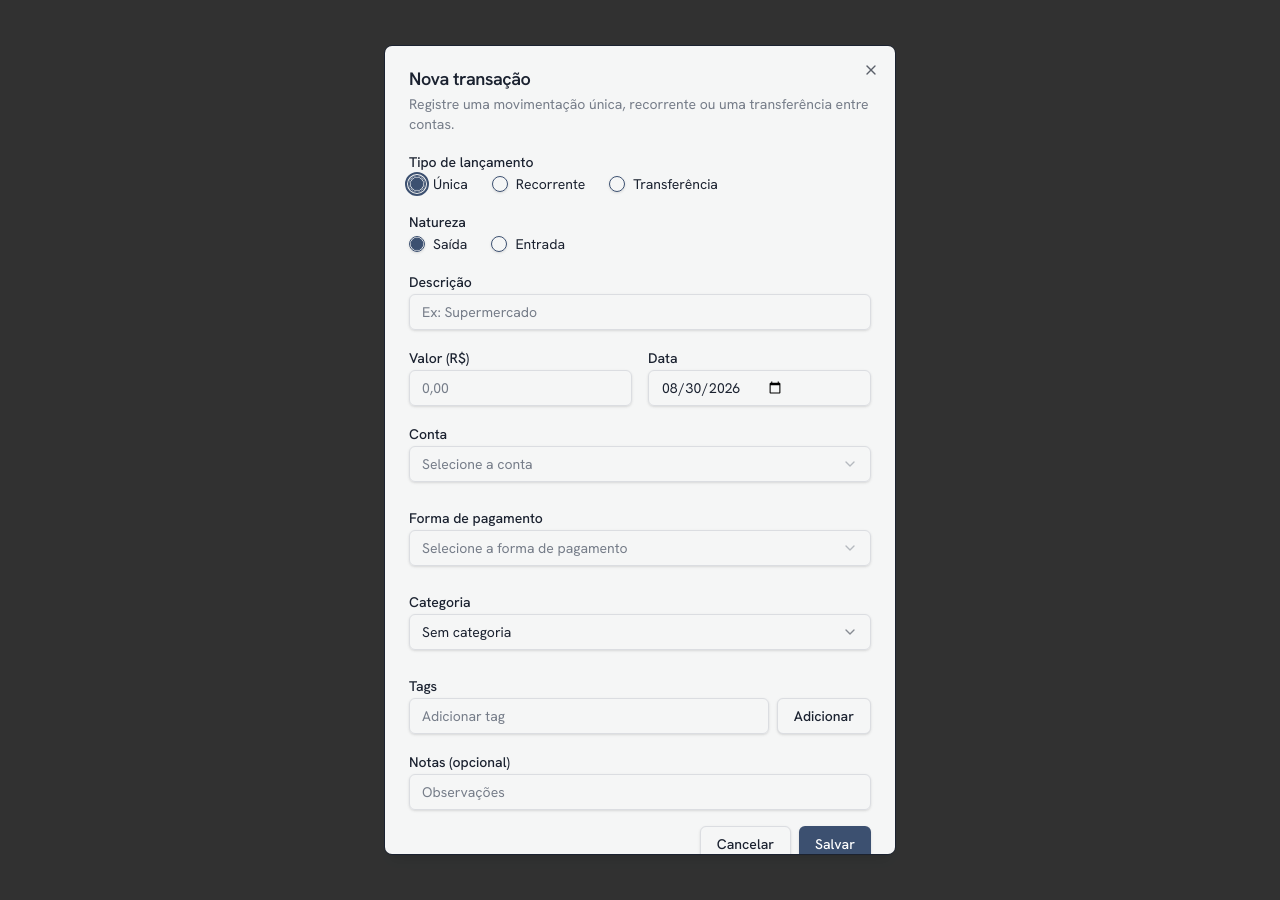
Scenario: TransactionForm › rejects a recurring end date before the transaction date
The width and height of the screenshot is (1280, 900).
Click the 2nd radio button named "Recorrente": [500, 184] box [492, 176, 508, 192]
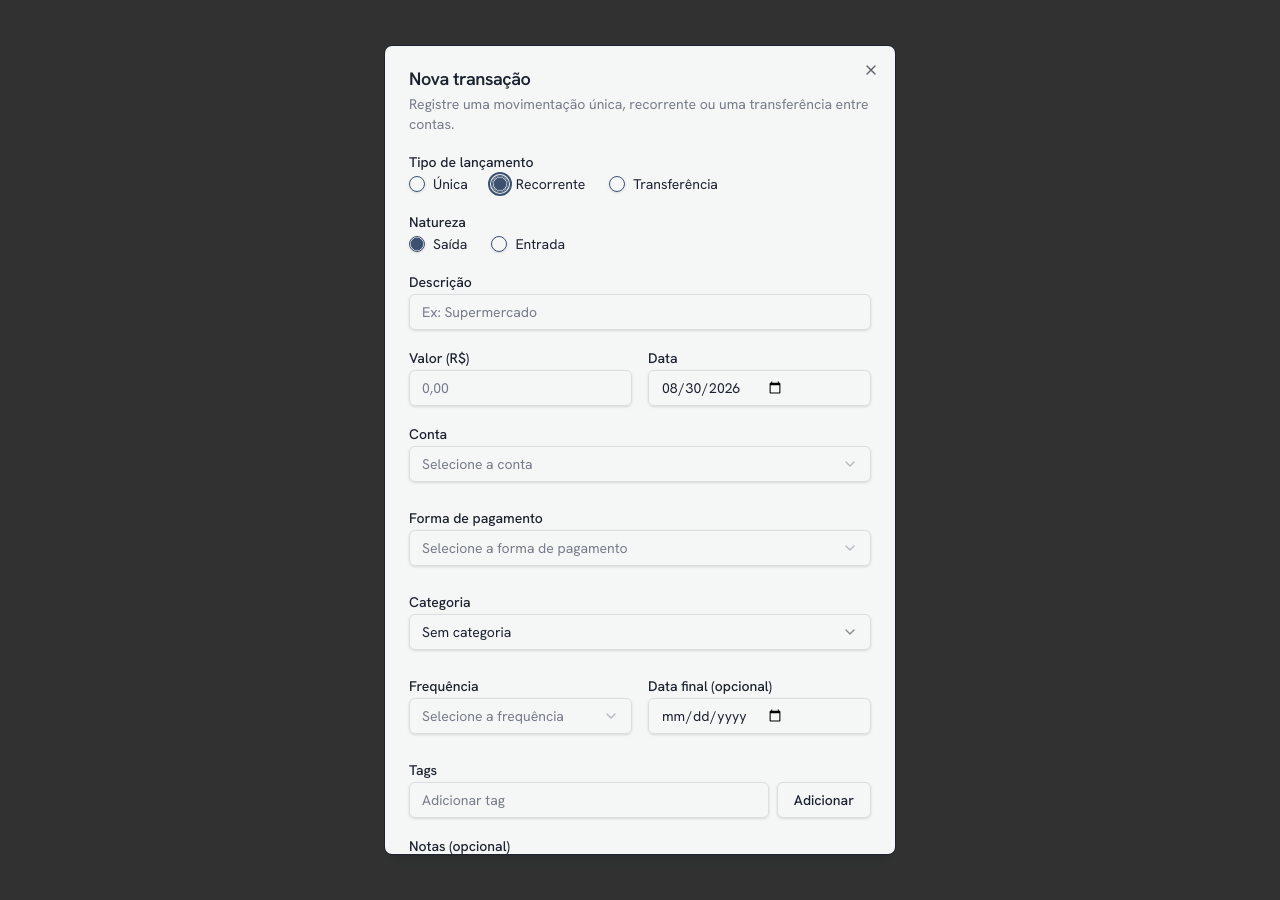
In the date field labelled "Data": [760, 388] box [648, 370, 871, 406], type "2026-06-10"
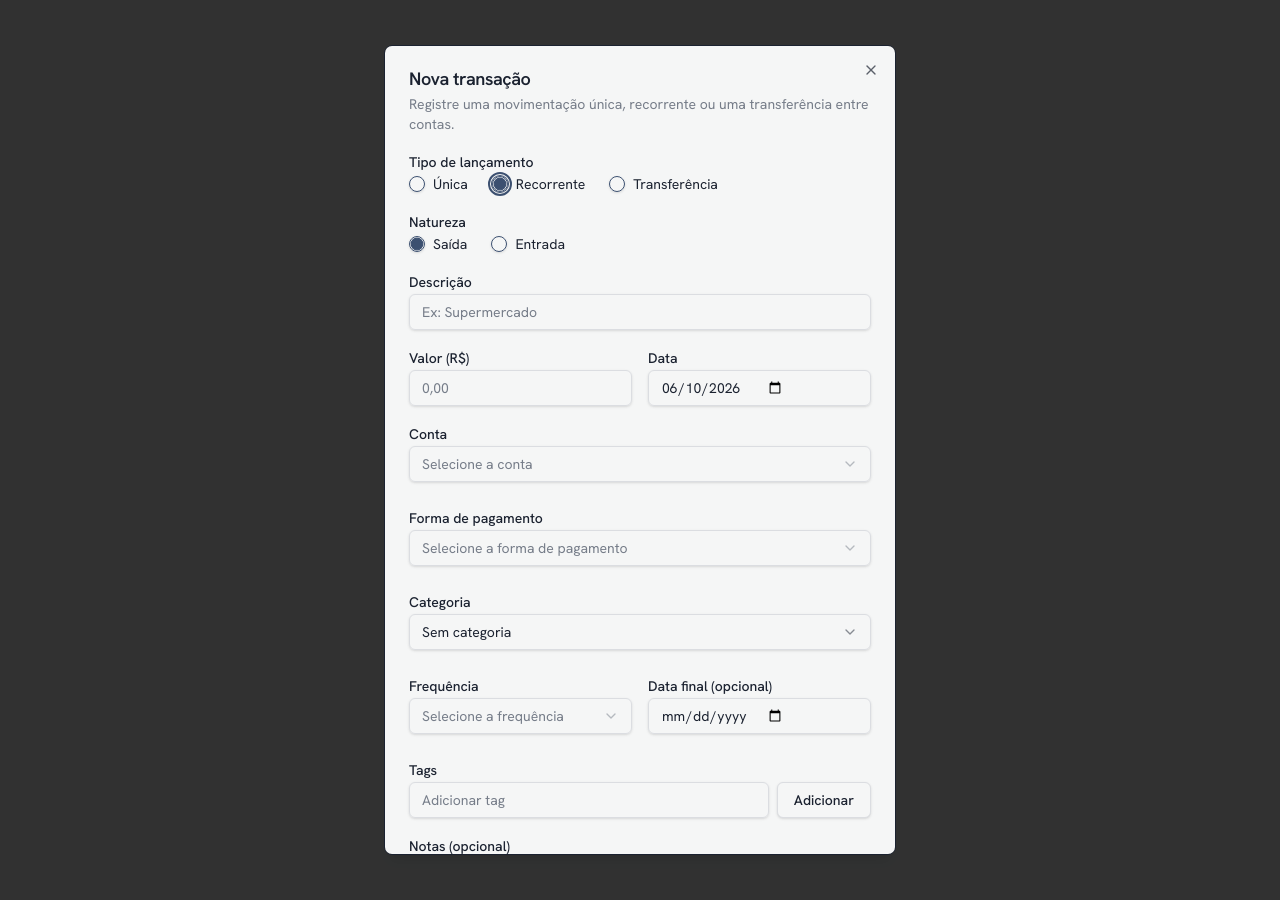
In the date field labelled "Data final (opcional)": [760, 716] box [648, 698, 871, 734], type "2026-06-01"
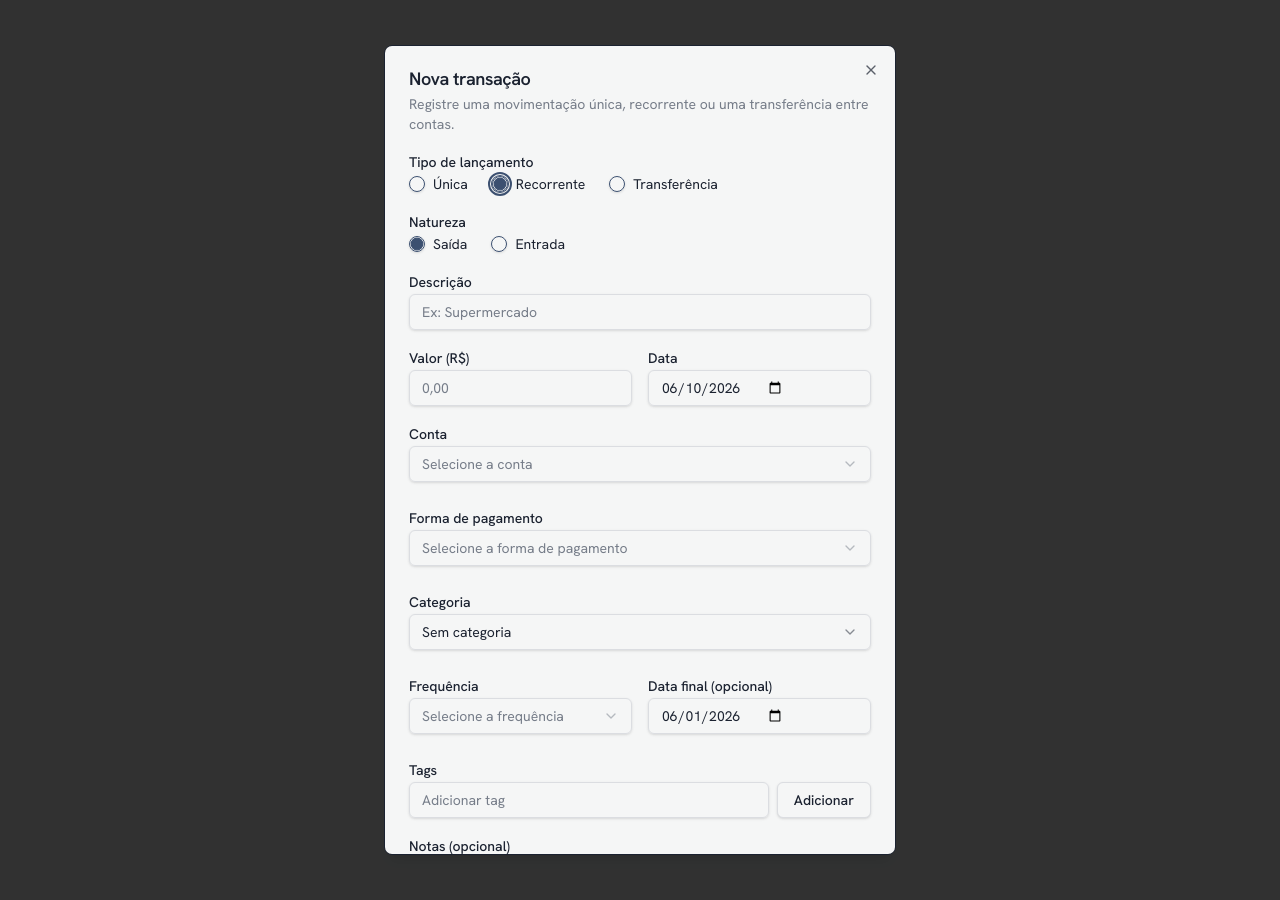
Click the dropdown labelled "frequência": [520, 716] box [409, 698, 632, 734]
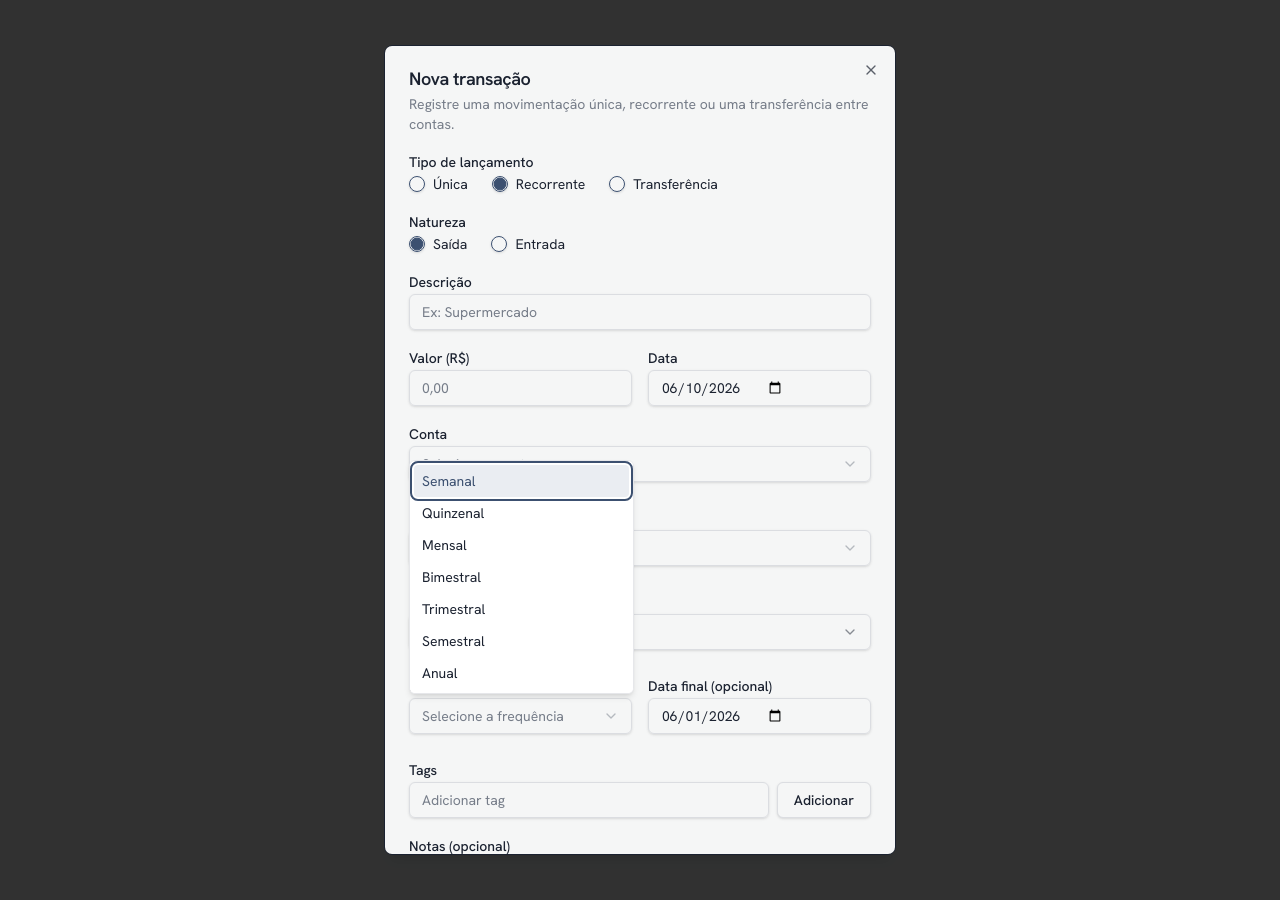
Click the option "Mensal": [444, 545] box [422, 536, 467, 554]
(page scrolled)
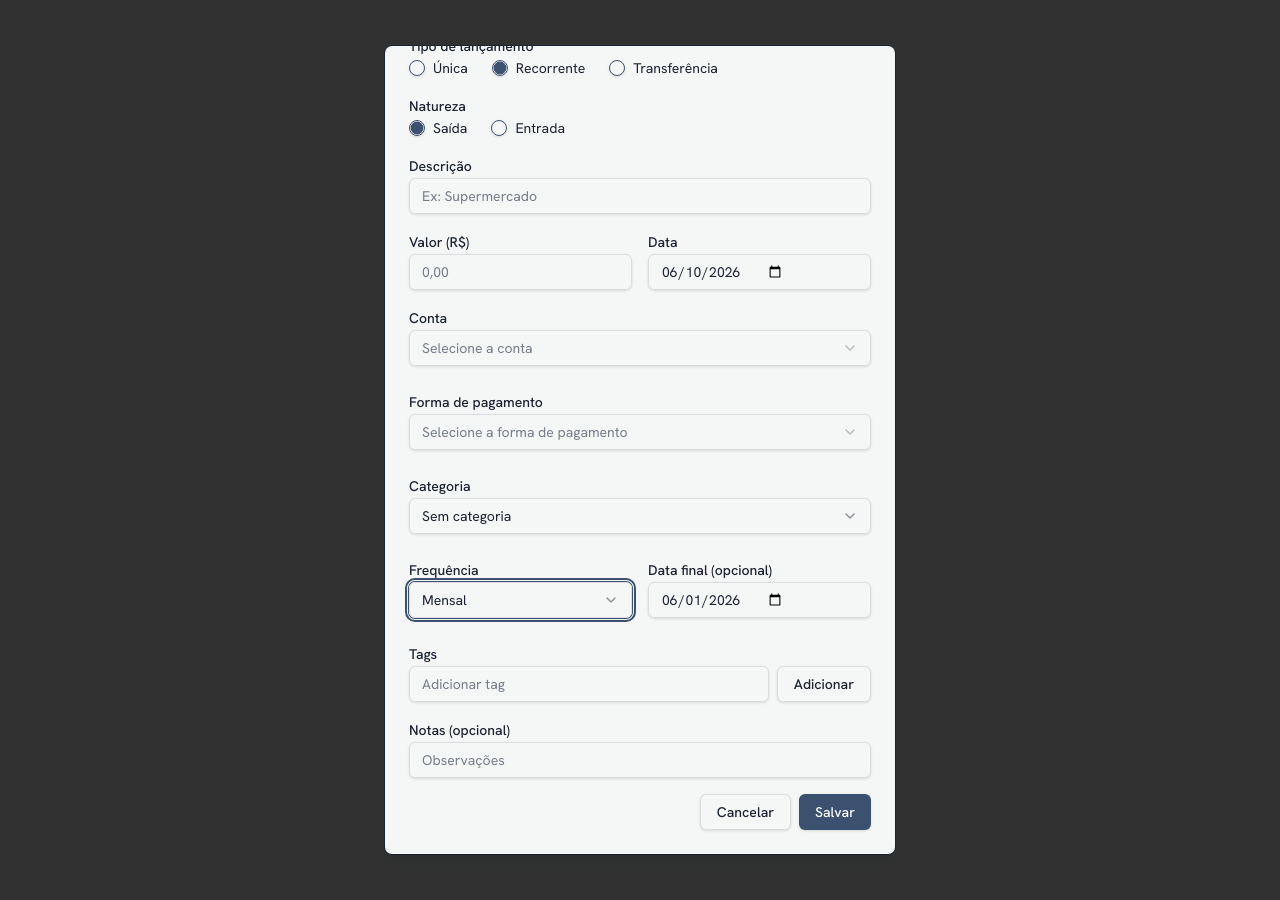
Click the button "Salvar": [835, 812] box [799, 794, 871, 830]
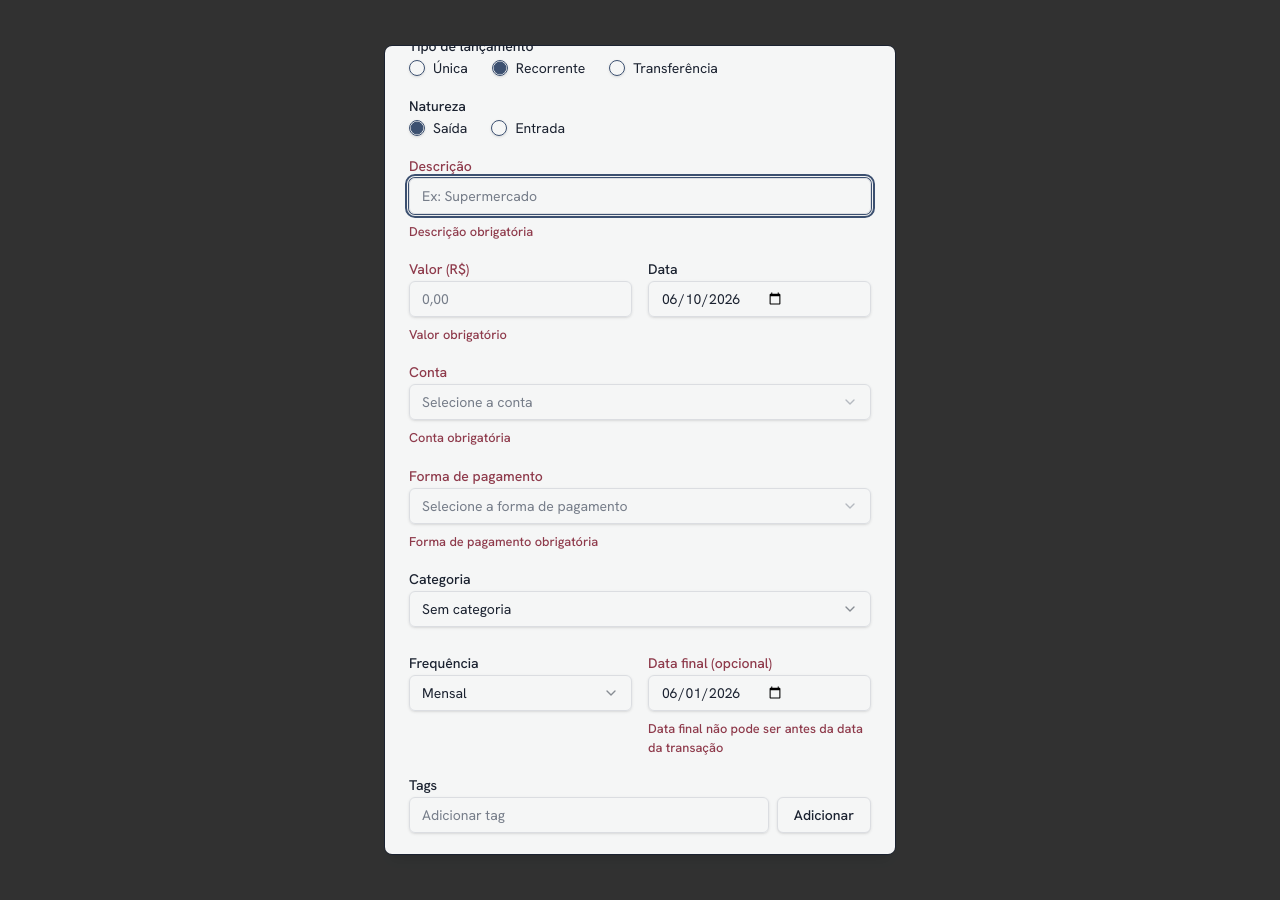
Now the text "Data final não pode ser antes da data da transação" is shown, box [648, 719, 871, 757]
